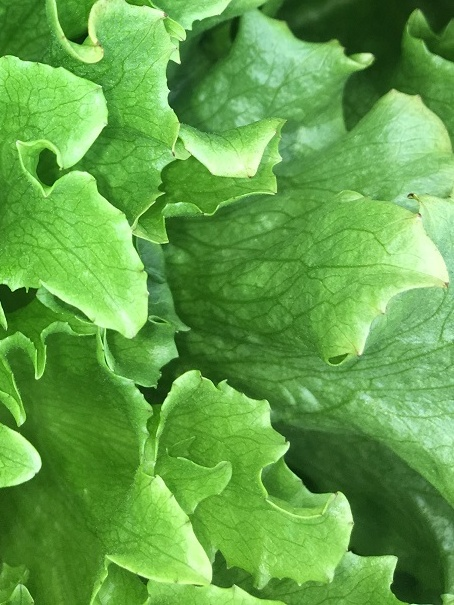tipburn: (158, 140, 184, 165), (154, 4, 175, 27), (89, 36, 110, 59), (345, 345, 369, 363), (435, 270, 452, 295), (403, 187, 423, 205), (329, 485, 346, 503), (373, 305, 392, 321), (411, 210, 427, 226)
